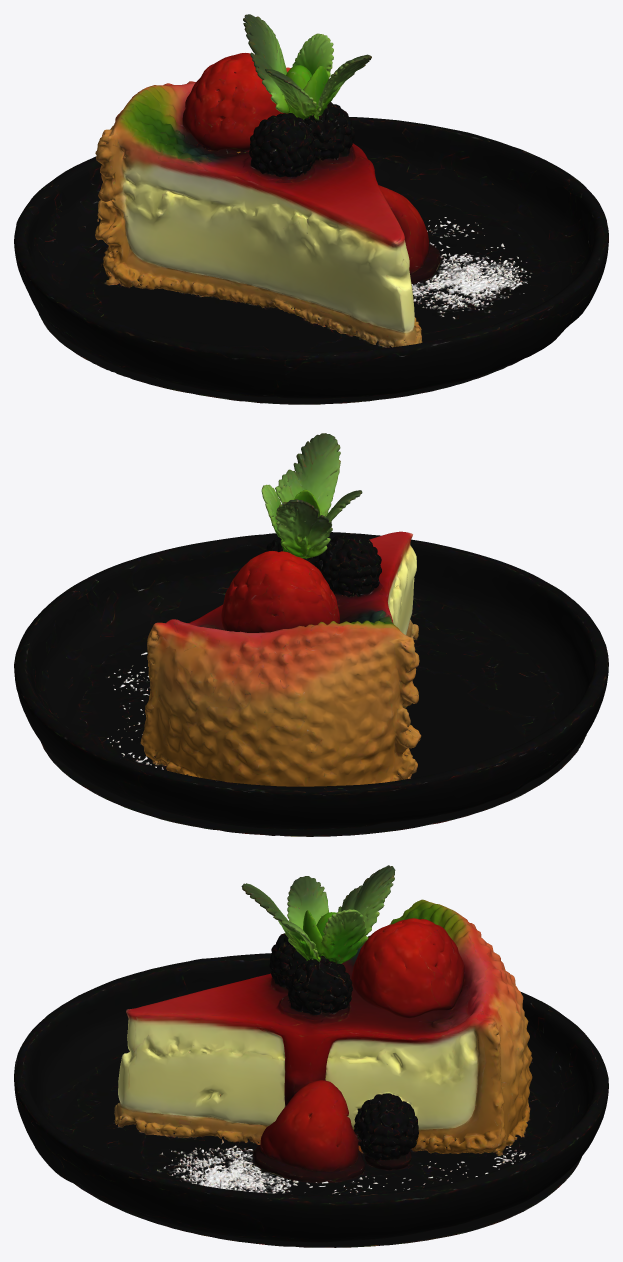
File: sample_2026-11-07T003035.471.glb
3 renders of one model, top to bottom at view 1: azimuth 30°, elevation 25°; view 2: azimuth 150°, elevation 25°; view 3: azimuth 270°, elevation 25°, orthographic.
Parts seen in each view (by area): view 1: world; view 2: world; view 3: world.
Part boxes in pixels (x1,y1,x2,y2): world: [14, 14, 608, 404]; world: [14, 433, 608, 836]; world: [14, 865, 608, 1247].
Size of the model in its own units: 1 by 0.4907 by 0.9988.
1 material, 1 textured.
